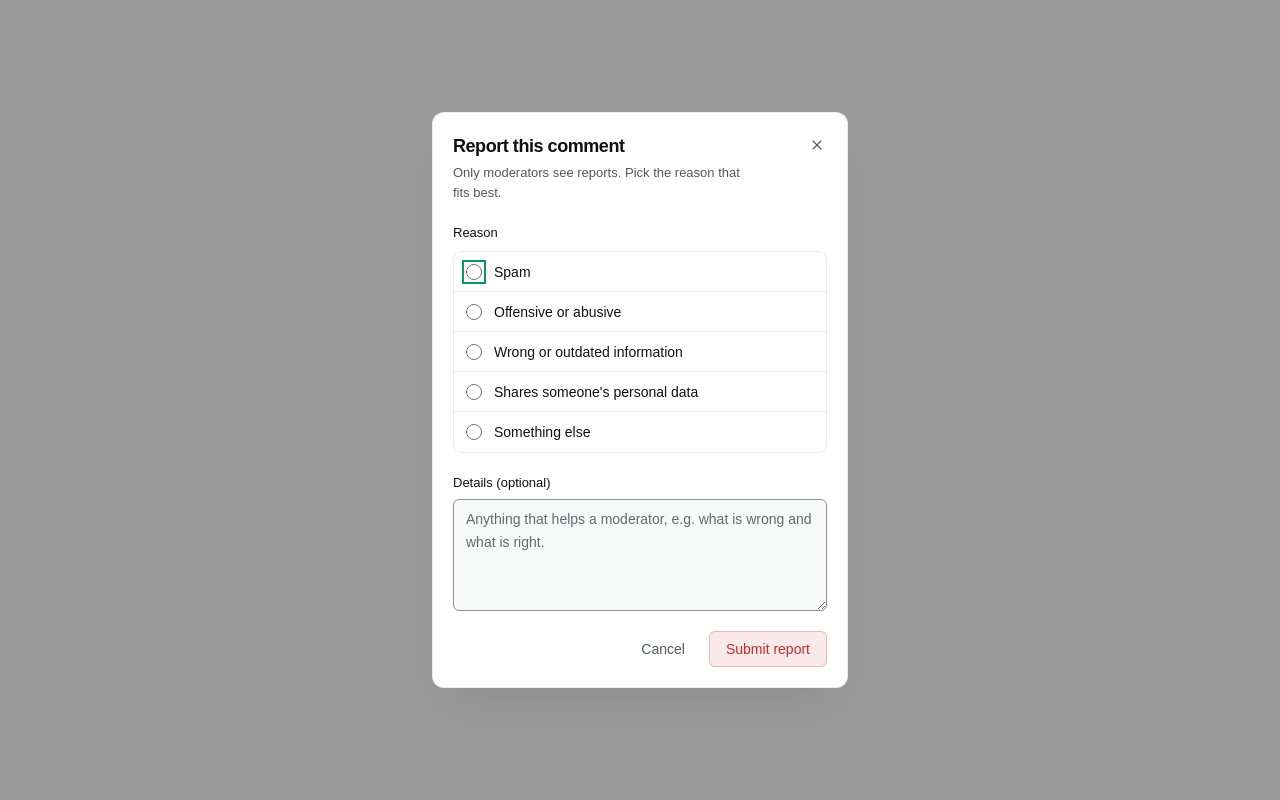
Test: ReportDialog › requires a reason
Click the button "Submit report".
click(768, 649)  # box [709,631,827,667]
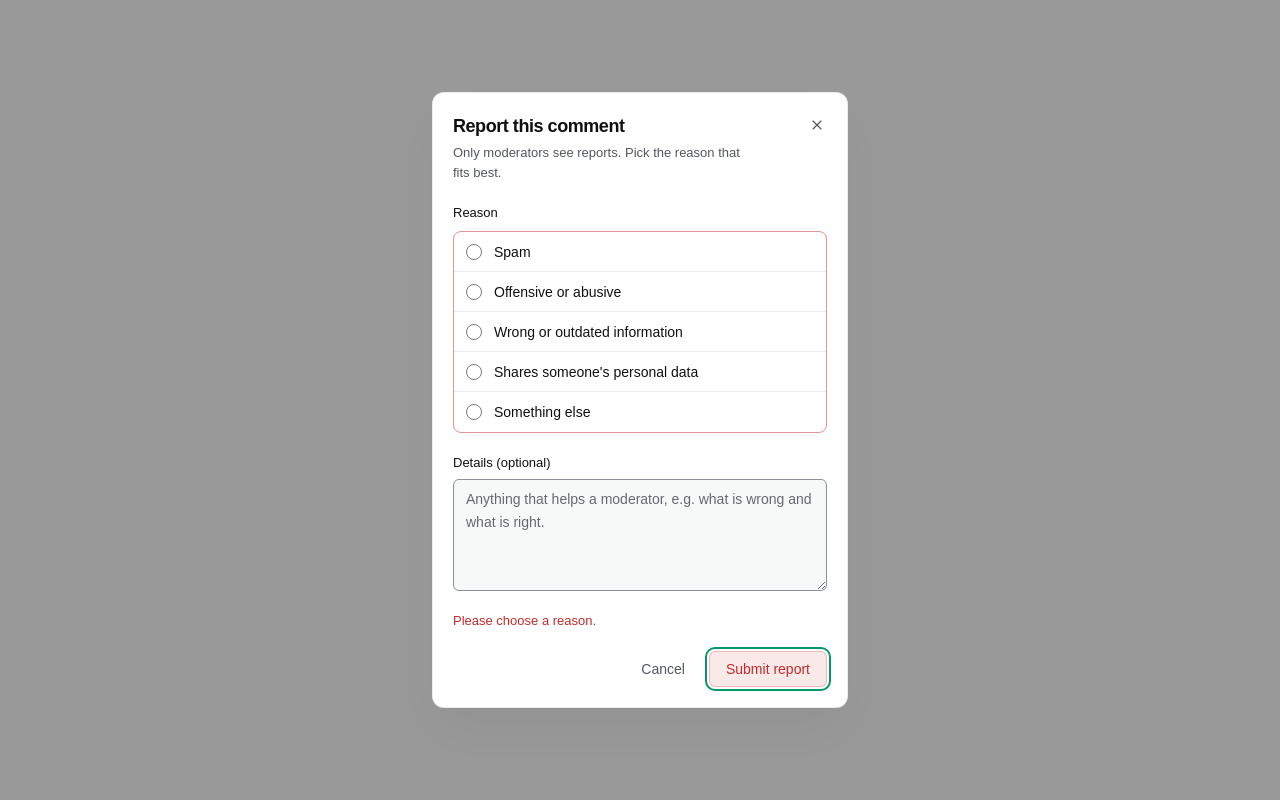
Expected: the message reads "Please choose a reason.", [453,613,596,628]
